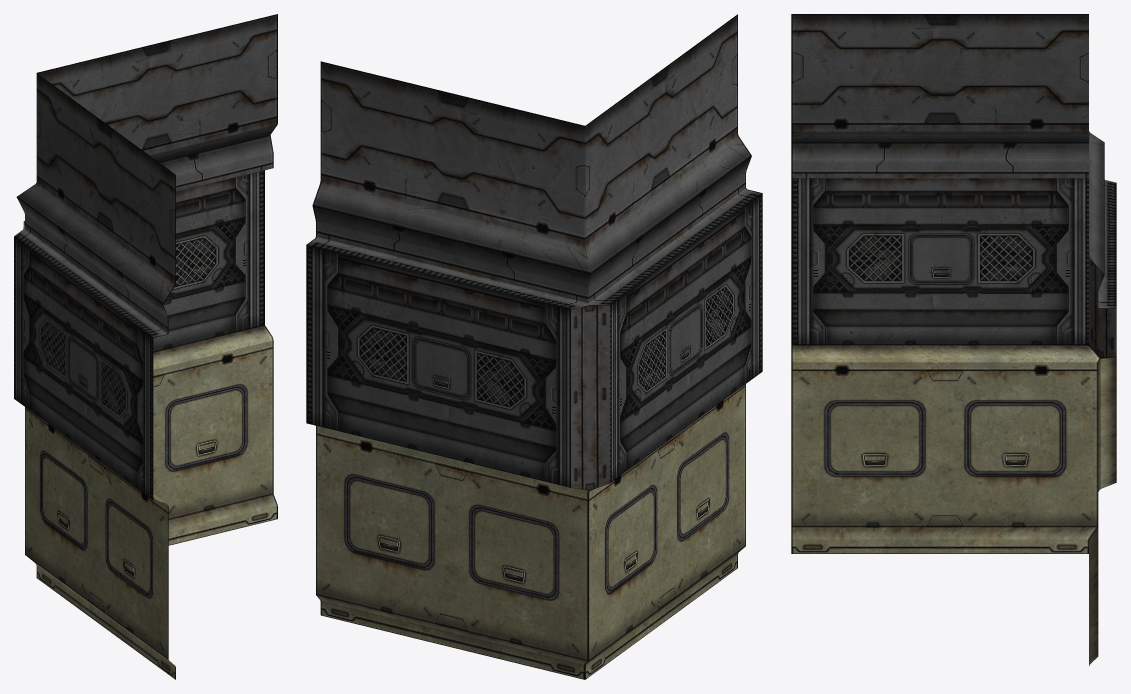
Rendered from living_area_flat01_storage_corner_concave.dae.
The picture shows the model from 3 angles, left to right: view 1: azimuth 30°, elevation 25°; view 2: azimuth 150°, elevation 25°; view 3: azimuth 270°, elevation 25°; orthographic projection. The views are drawn at different scales.
Visible parts, largest first — view 1: polySurface11; view 2: polySurface11; view 3: polySurface11.
Boxes of the visible parts, box(x1,y1,x2,y2) form: polySurface11: box(14, 14, 277, 679); polySurface11: box(306, 14, 762, 679); polySurface11: box(791, 14, 1116, 665).
Size of the model in its own units: 2.19 by 4 by 2.19.
